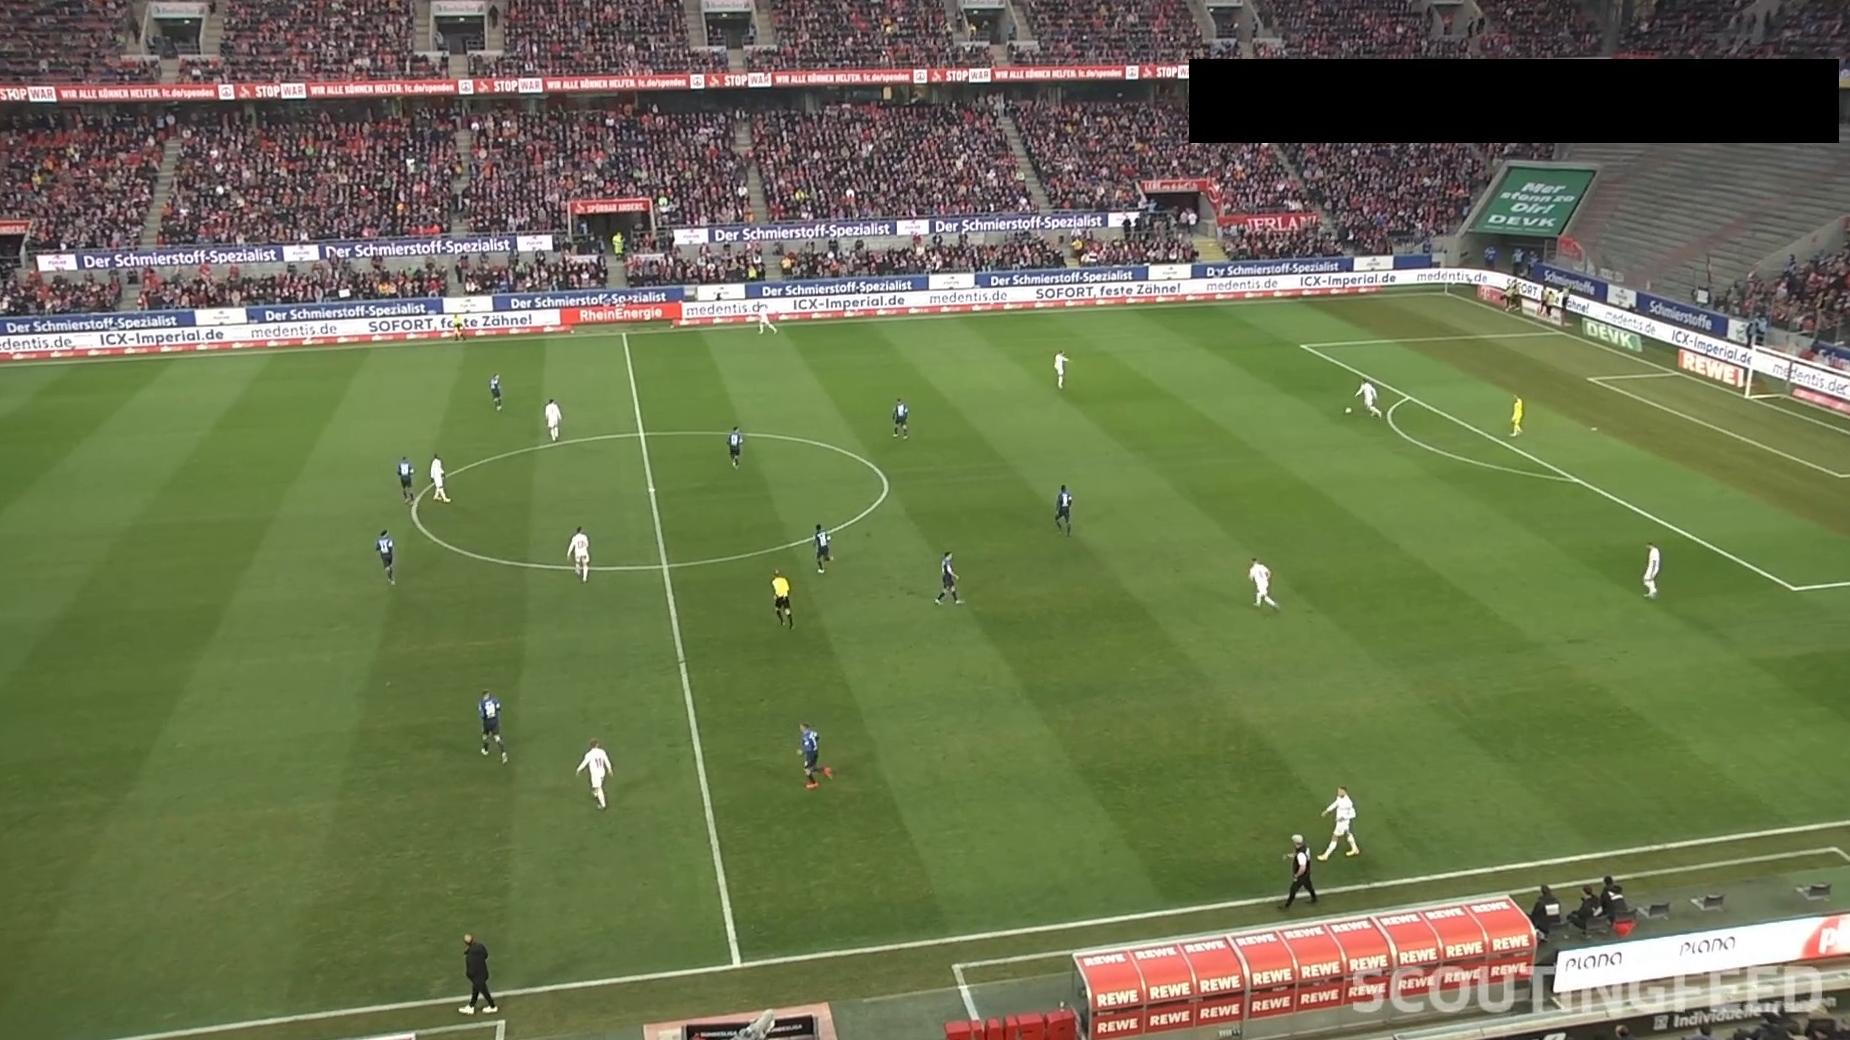ball: (1343, 406, 1353, 415)
